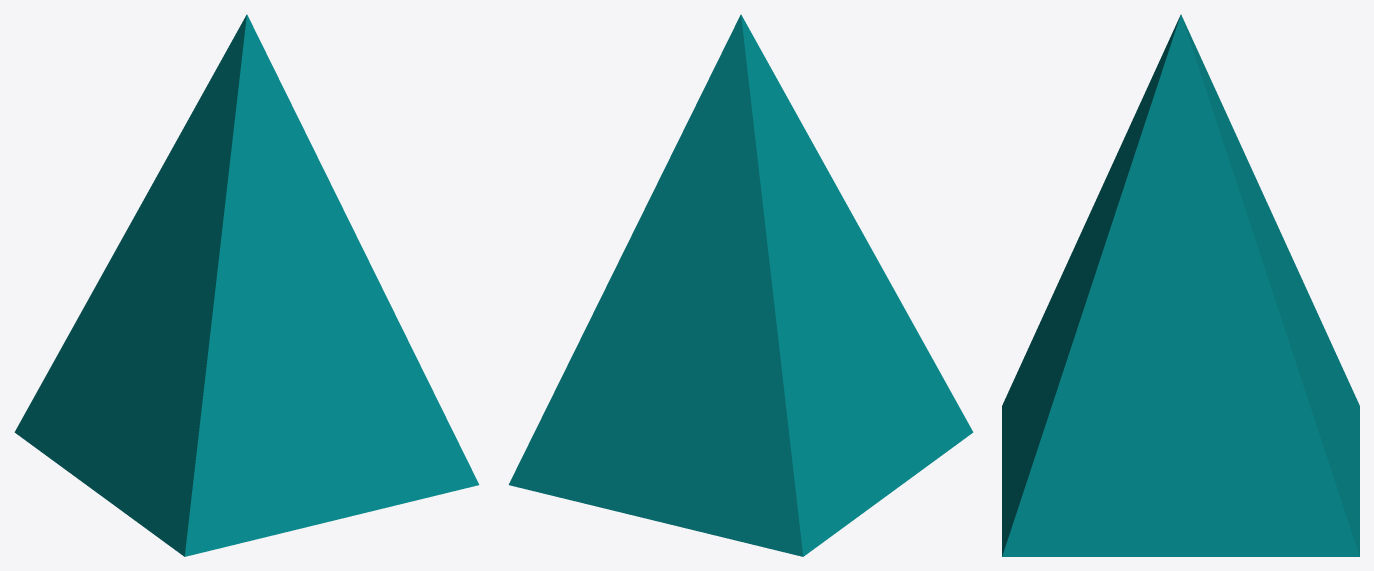
File: triggerPoint.fbx
3 views of the same model, side by side, from view 1: azimuth 30°, elevation 25°; view 2: azimuth 150°, elevation 25°; view 3: azimuth 270°, elevation 25° (orthographic). The views are drawn at different scales.
Visible parts, largest first — view 1: triggerPoint; view 2: triggerPoint; view 3: triggerPoint.
Boxes of the visible parts, x1,y1,x2,y2 form: triggerPoint: [14, 14, 479, 556]; triggerPoint: [508, 14, 973, 556]; triggerPoint: [1002, 14, 1359, 556].
Bounding box in the file's own units: 100 × 144 × 100.
